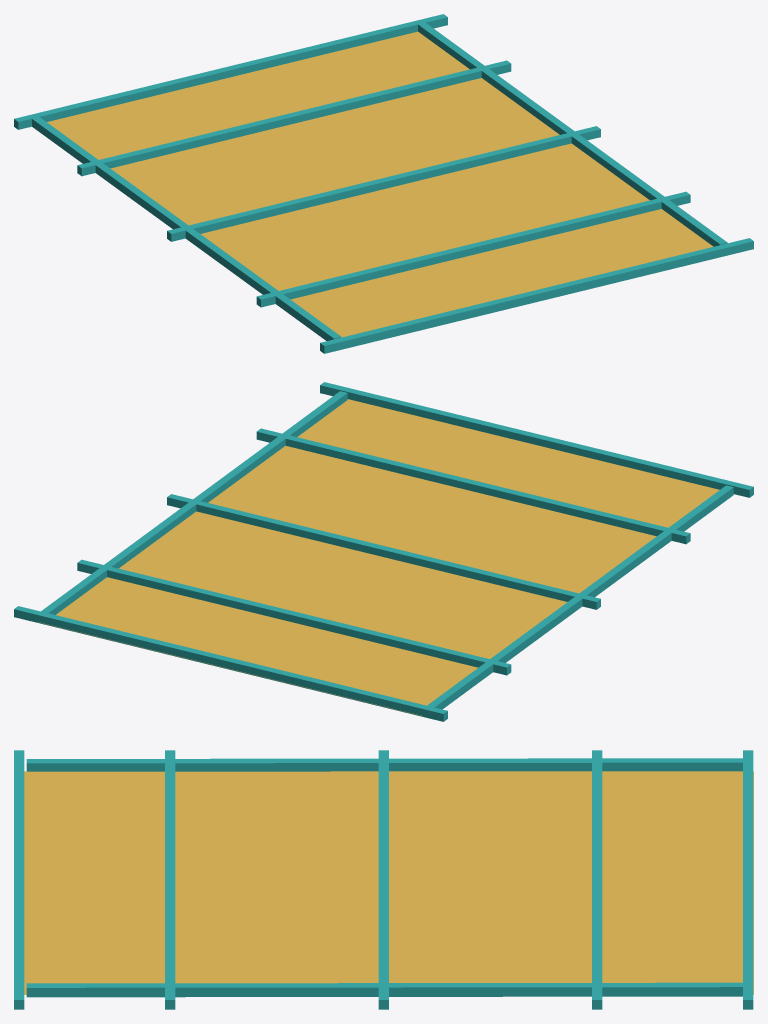
The model's file is Base Edificio Celula Fazenda.fbx.
3 views of the same model, one above another, from view 1: azimuth 30°, elevation 25°; view 2: azimuth 150°, elevation 25°; view 3: azimuth 270°, elevation 25° (orthographic). The views are drawn at different scales.
Parts seen in each view (by area): view 1: Cubo.034; view 2: Cubo.034; view 3: Cubo.034.
Boxes of the visible parts, x1,y1,x2,y2 form: Cubo.034: (14, 14, 753, 353); Cubo.034: (14, 382, 753, 721); Cubo.034: (14, 750, 753, 1009).
Size of the model in its own units: 11348 by 200 by 14211.
